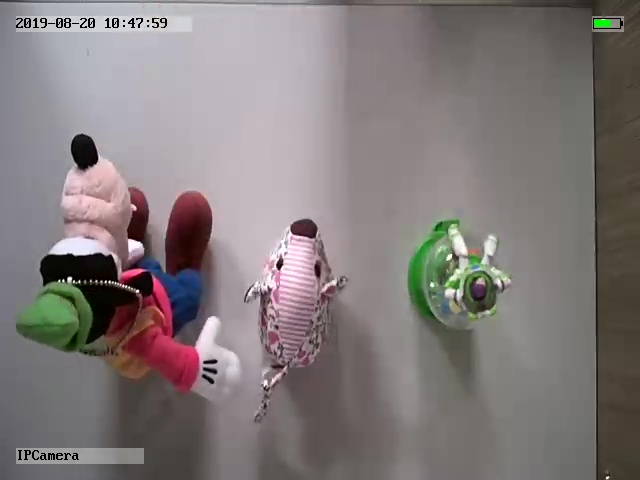buzz: (405, 214, 515, 336)
goofy: (17, 131, 245, 406)
pig: (245, 216, 352, 424)
